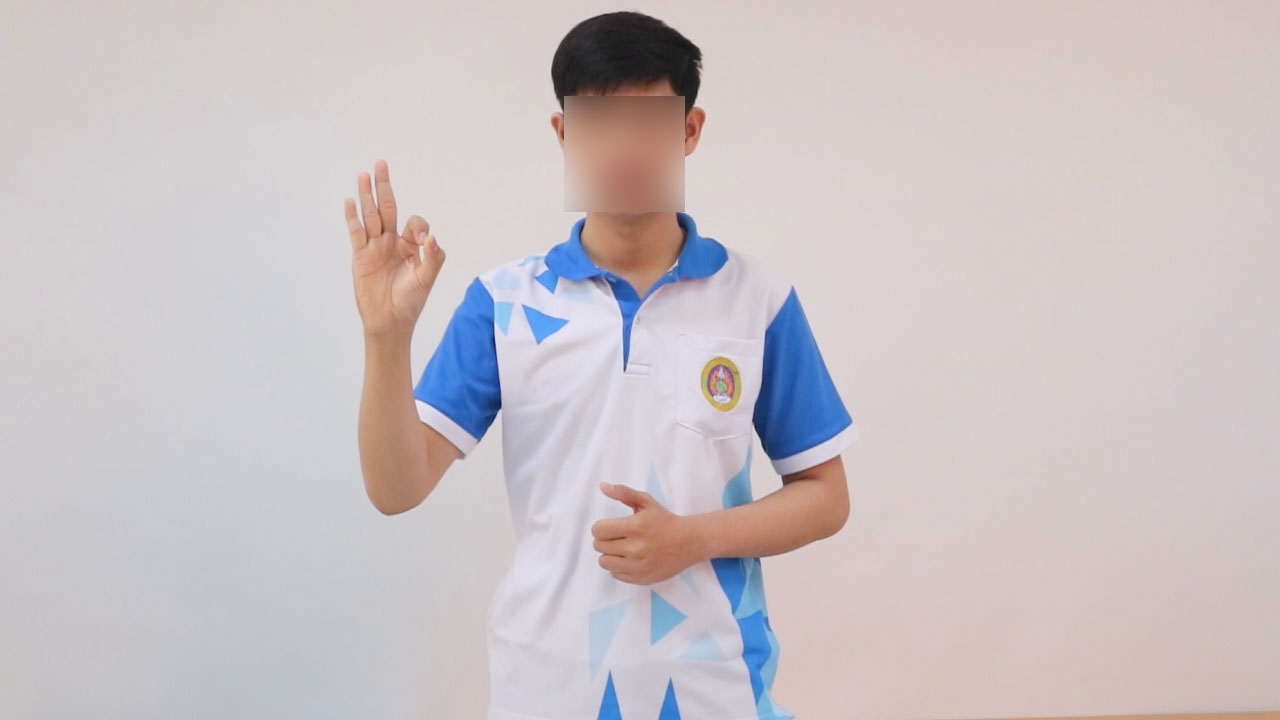for: (336, 149, 454, 352)
